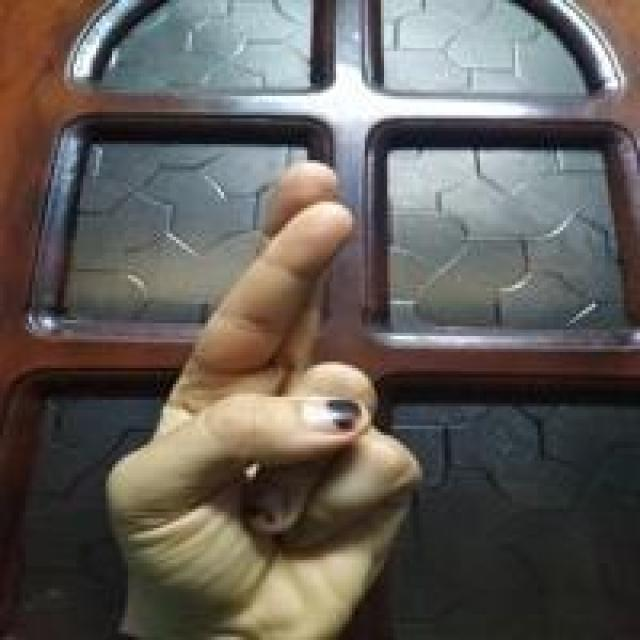R: (98, 154, 427, 608)
